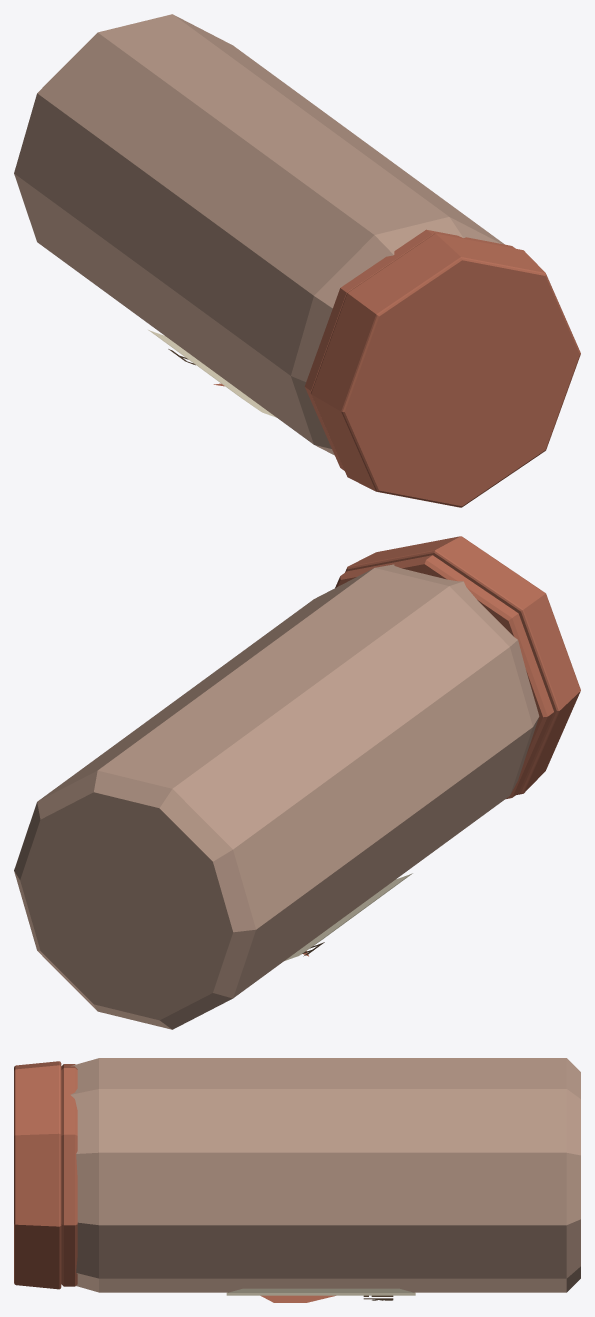
The model's file is paprika.glb.
3 views of the same model, one above another, from view 1: azimuth 30°, elevation 25°; view 2: azimuth 150°, elevation 25°; view 3: azimuth 270°, elevation 25° (orthographic). The views are drawn at different scales.
Visible parts, largest first — view 1: paprika; view 2: paprika; view 3: paprika.
Part boxes in pixels (x1=…): paprika: x1=14, y1=14, x2=580, y2=507; paprika: x1=14, y1=536, x2=580, y2=1029; paprika: x1=14, y1=1058, x2=580, y2=1302.
Bounding box in the file's own units: 0.0514 × 0.0527 × 0.12.
